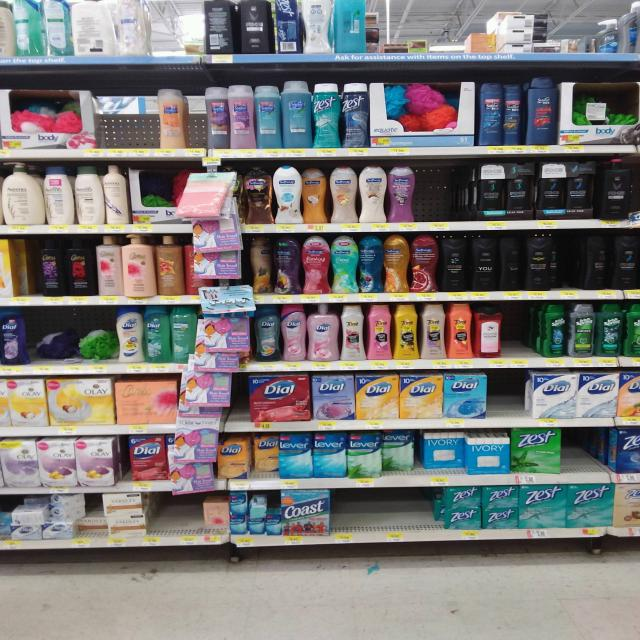void: (543, 0, 610, 56), (100, 83, 146, 159), (146, 0, 194, 71), (422, 164, 471, 232), (380, 491, 428, 546), (154, 495, 202, 546), (334, 490, 378, 544), (414, 0, 450, 66), (370, 6, 409, 63), (490, 370, 527, 427), (0, 231, 27, 308), (568, 431, 606, 483), (508, 303, 534, 366)
